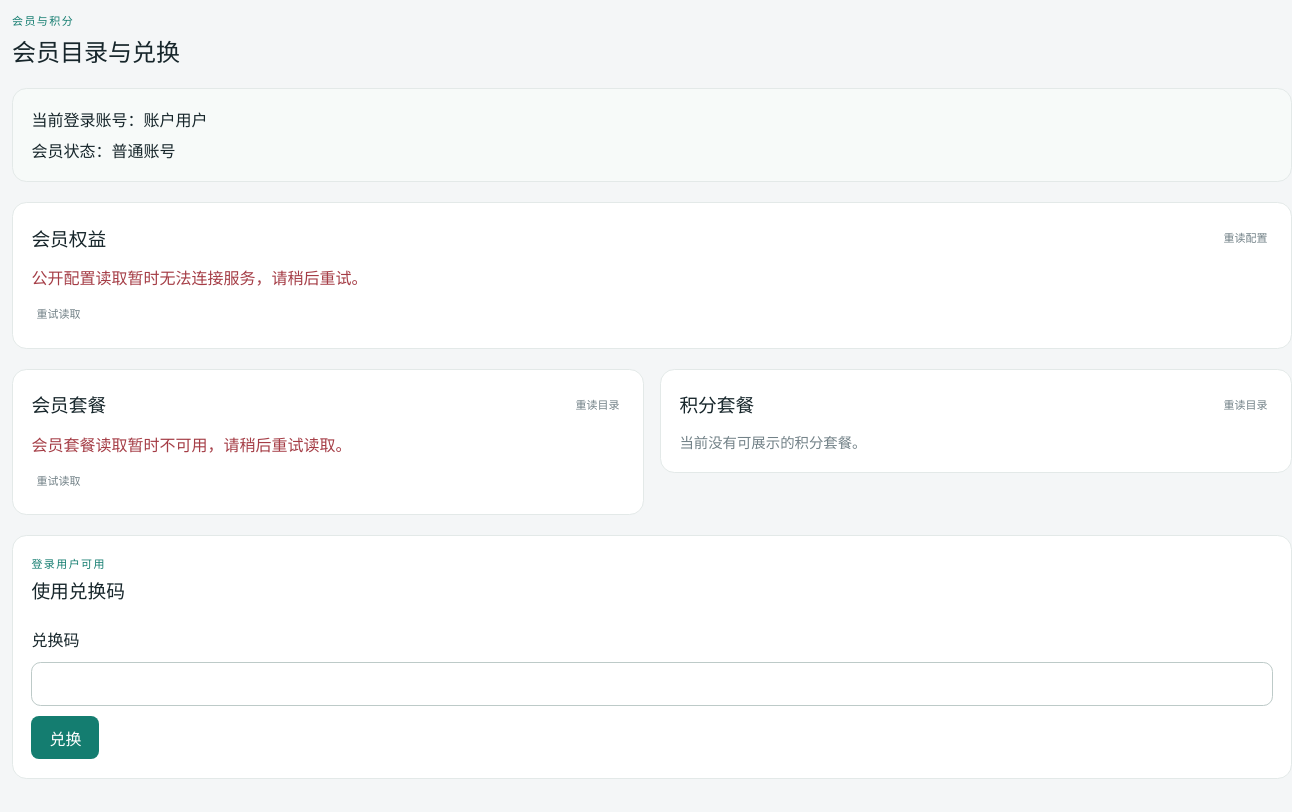
Test case: AccountMembershipPanel › keeps configuration and category failures independent and retries without adding defaults
The width and height of the screenshot is (1292, 812).
Check: the text "公开配置读取暂时无法连接服务，请稍后重试。" is shown, box x1=31 y1=265 x2=367 y2=289
Check: the text "会员套餐读取暂时不可用，请稍后重试读取。" is shown, box x1=31 y1=432 x2=351 y2=456
What coordinates should you click on to do the following:
click the button "重试读取" below "公开配置读取暂时无法连接服务，请稍后重试。"
I would click on:
 (58, 313)
Its box is x1=31 y1=297 x2=85 y2=329.
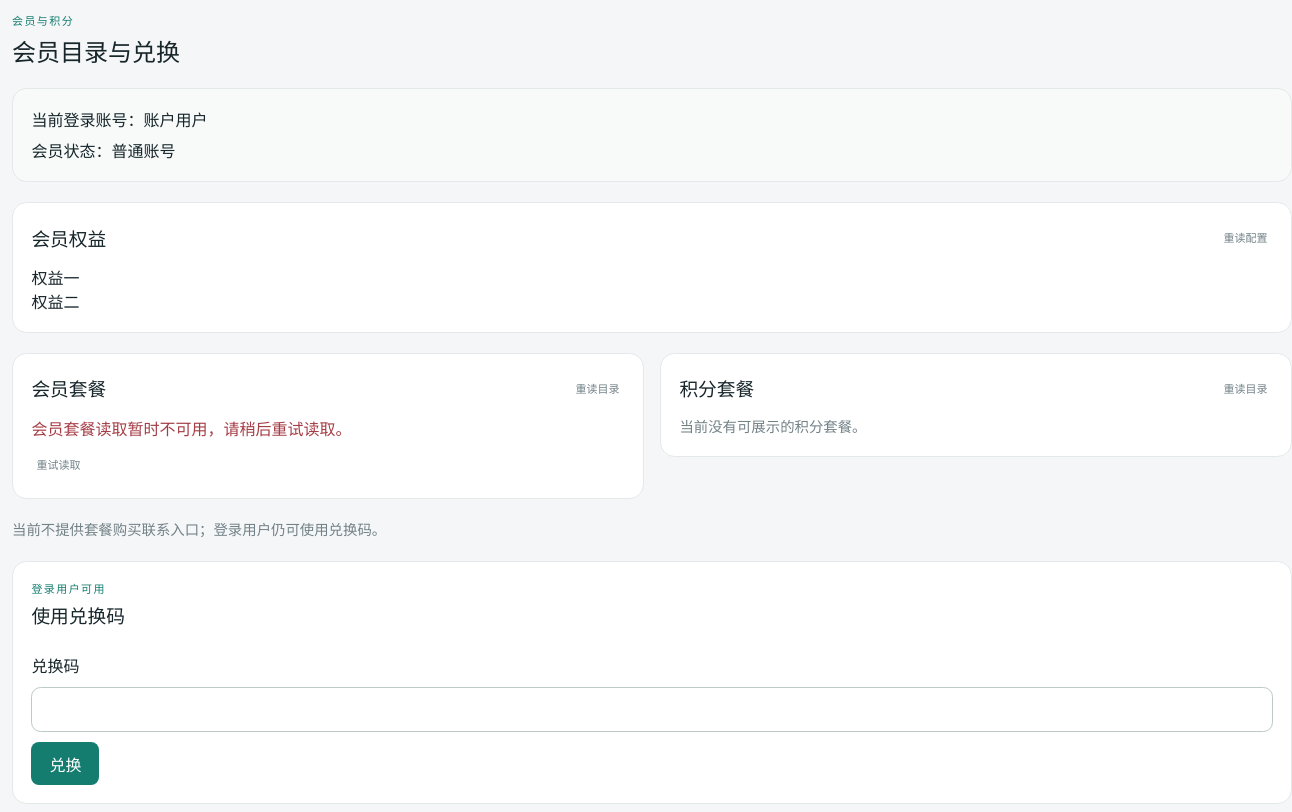
Check: the text "权益一 权益二" is shown, box x1=31 y1=268 x2=79 y2=312
